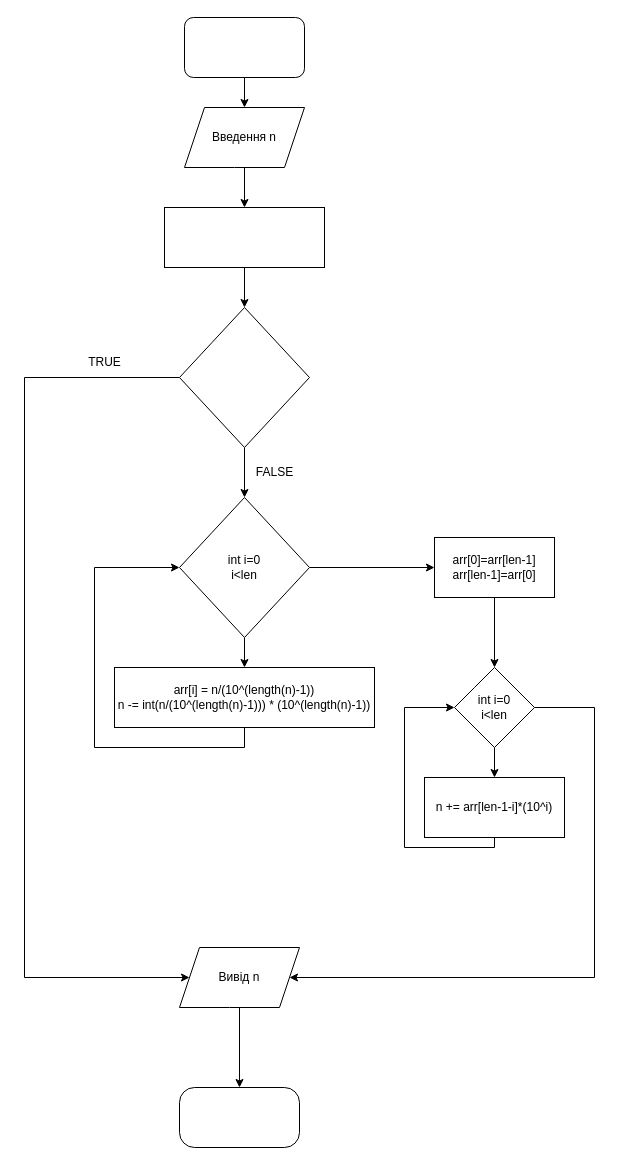
This 620x1165 diagram has some shape labels left out. The shapes that lost their labels are listed below. From the top down, each one's centre as x and y in pixels, then its label:
point (244, 47): Початок
point (244, 237): Ініціалізація: len(довжина n), arr(масив довжиною n).
point (244, 377): if len==1
point (239, 1117): кінець
